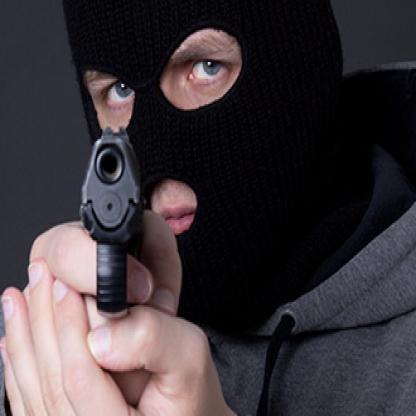gun: (76, 117, 158, 324)
